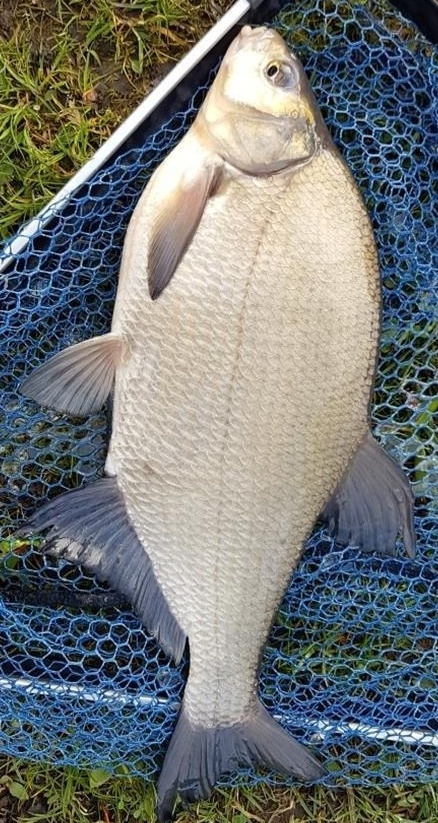Abramis brama: (20, 20, 418, 803)
